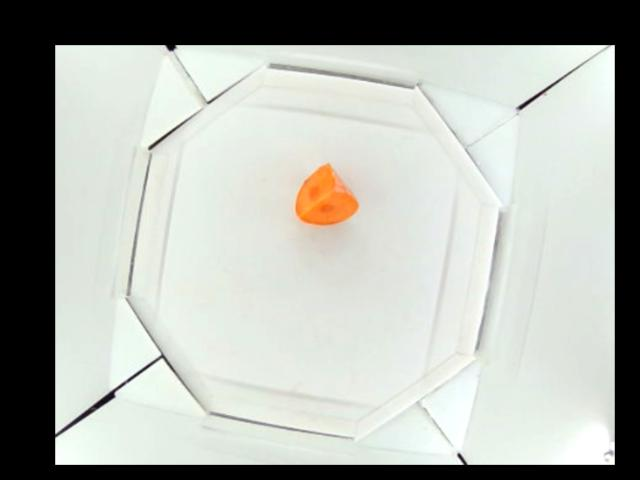Carrot: (293, 164, 357, 223)
